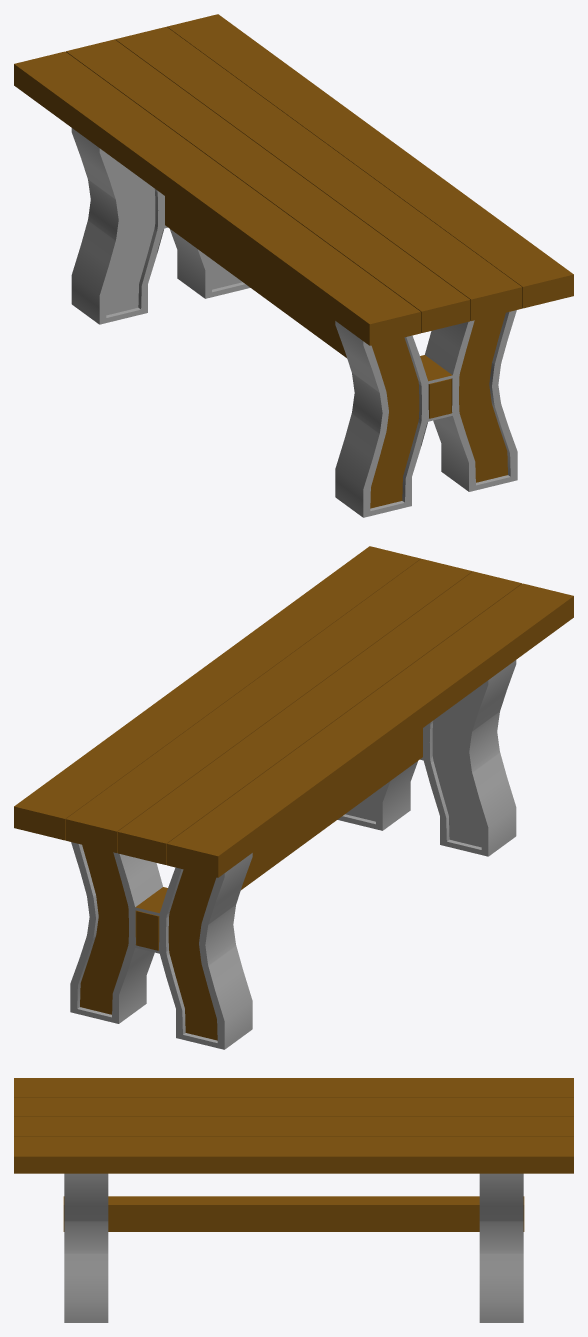
Rendered from bench.fbx.
The picture shows the model from 3 angles, top to bottom: view 1: azimuth 30°, elevation 25°; view 2: azimuth 150°, elevation 25°; view 3: azimuth 270°, elevation 25°; orthographic projection. The views are drawn at different scales.
Visible parts, largest first — view 1: pasted__pasted__pCube3; view 2: pasted__pasted__pCube3; view 3: pasted__pasted__pCube3.
Boxes of the visible parts, x1=… form: pasted__pasted__pCube3: x1=14, y1=14, x2=573, y2=517; pasted__pasted__pCube3: x1=14, y1=546, x2=573, y2=1049; pasted__pasted__pCube3: x1=14, y1=1078, x2=573, y2=1322.
Size of the model in its own units: 4.21 by 4.4 by 12.72.
Materials: 3 (2 with a texture image).
